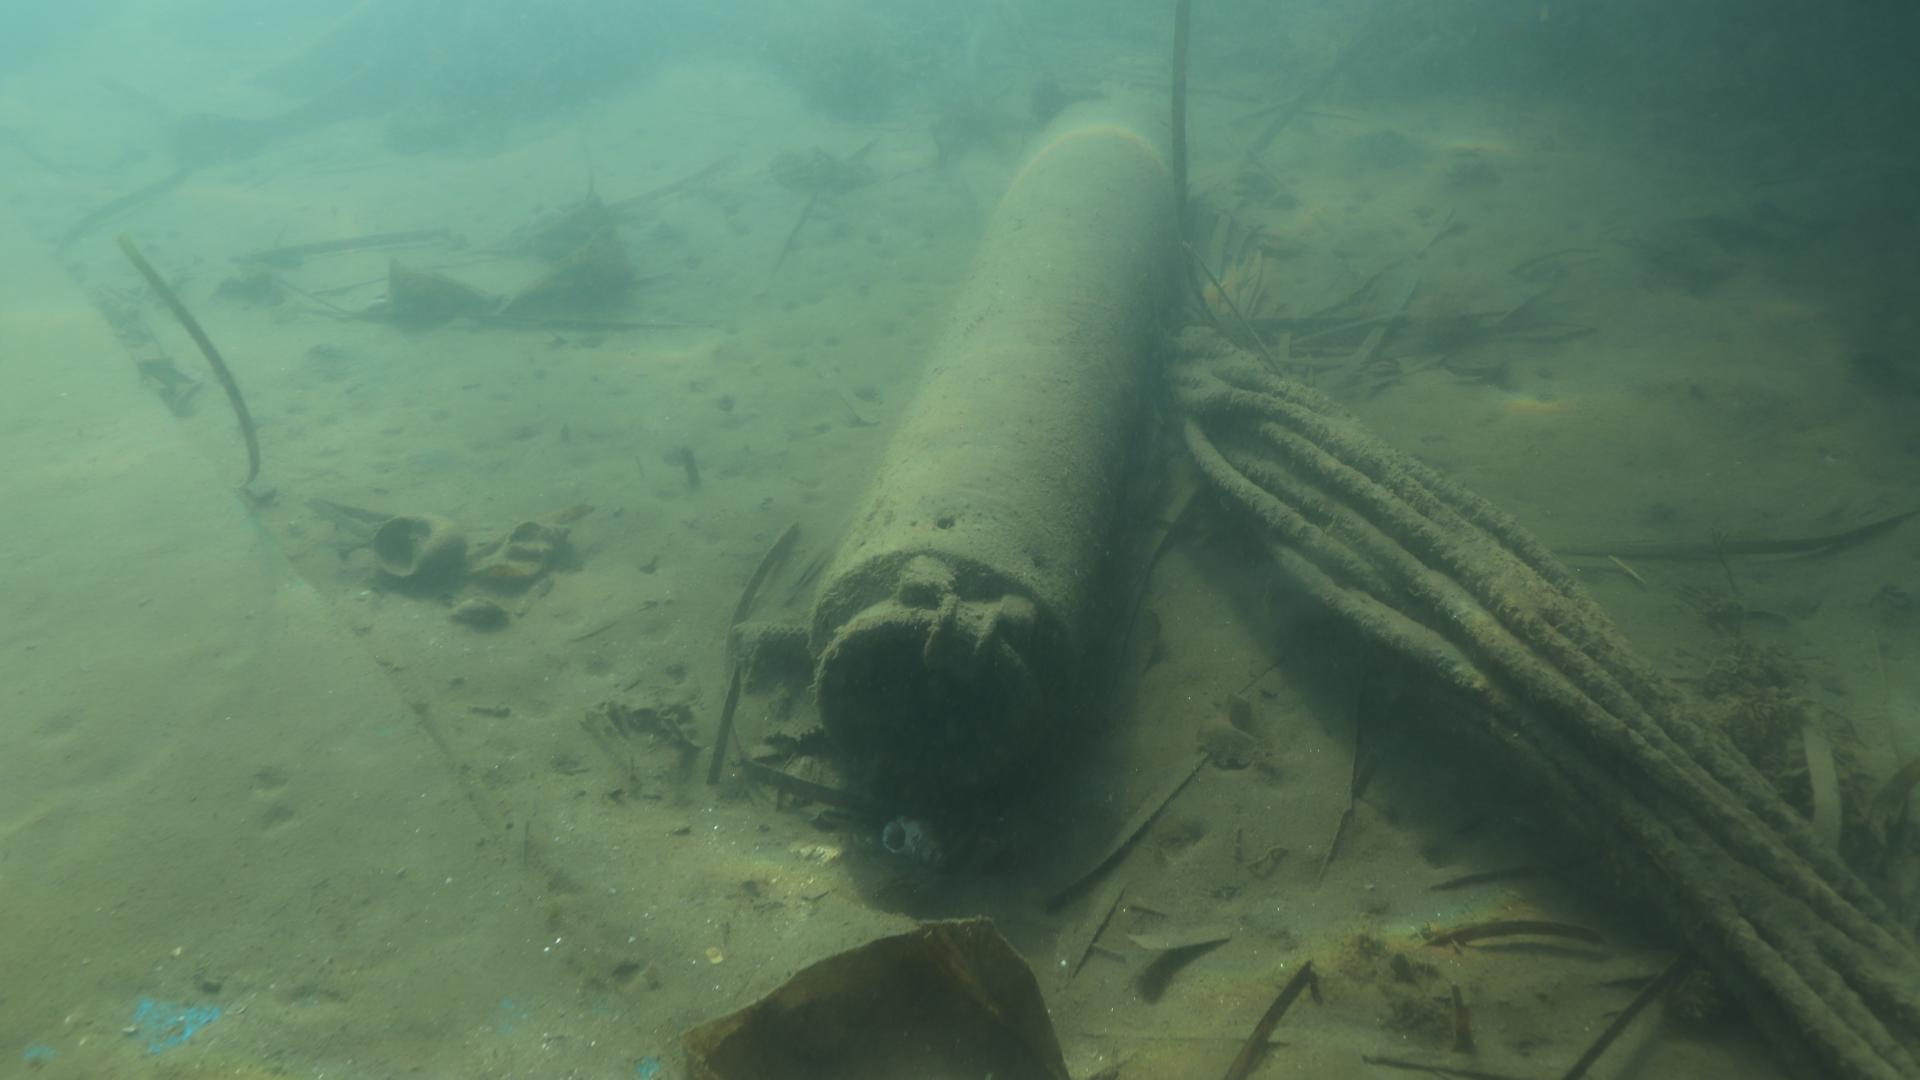bundle of ropes: (1160, 326, 1920, 1080)
eel fish trap: (806, 96, 1174, 819)
